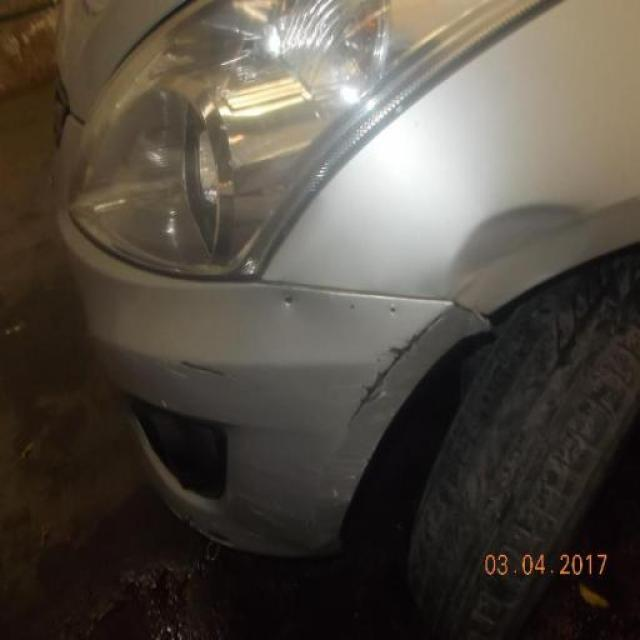dent: (447, 201, 593, 328)
scratch: (172, 446, 369, 559), (349, 303, 453, 433), (179, 350, 237, 385), (281, 284, 299, 310), (344, 297, 362, 314), (388, 304, 401, 316)
